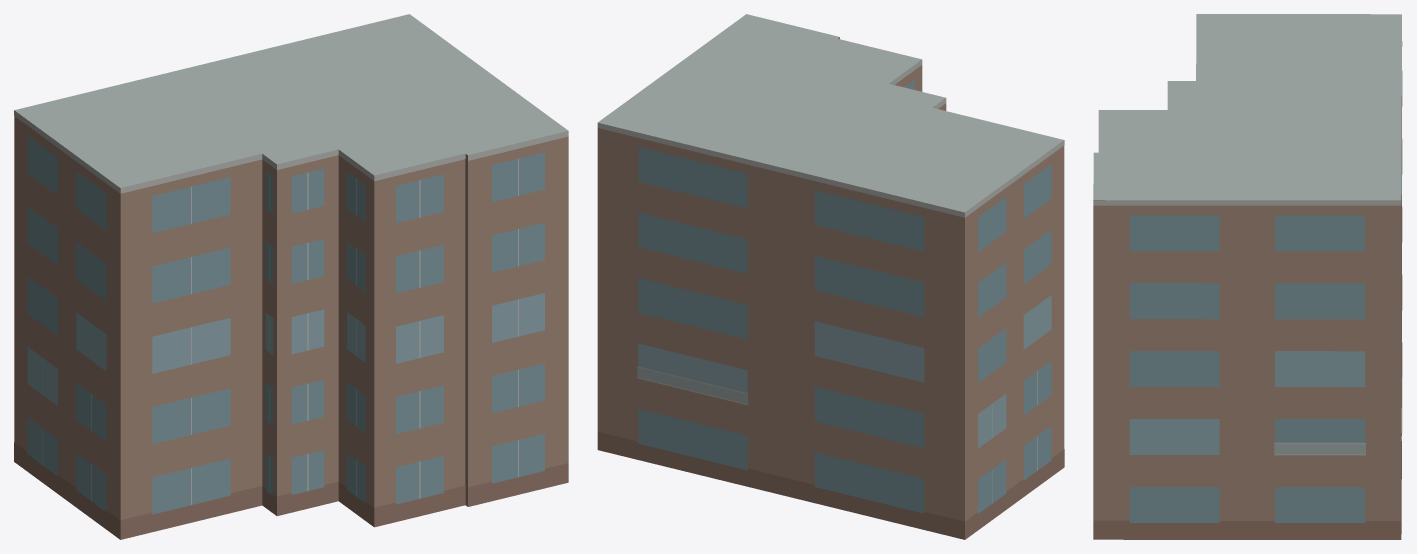
File: survey-upis-32872362.glb
The picture shows the model from 3 angles, left to right: view 1: azimuth 30°, elevation 25°; view 2: azimuth 150°, elevation 25°; view 3: azimuth 270°, elevation 25°; orthographic projection. The views are drawn at different scales.
Visible parts, largest first — view 1: survey-upis-32872362.tmp; view 2: survey-upis-32872362.tmp; view 3: survey-upis-32872362.tmp.
Boxes of the visible parts, x1=… form: survey-upis-32872362.tmp: x1=14, y1=14, x2=568, y2=539; survey-upis-32872362.tmp: x1=597, y1=14, x2=1064, y2=539; survey-upis-32872362.tmp: x1=1093, y1=14, x2=1402, y2=539.
Bounding box in the file's own units: 17.98 × 15.25 × 12.59.
